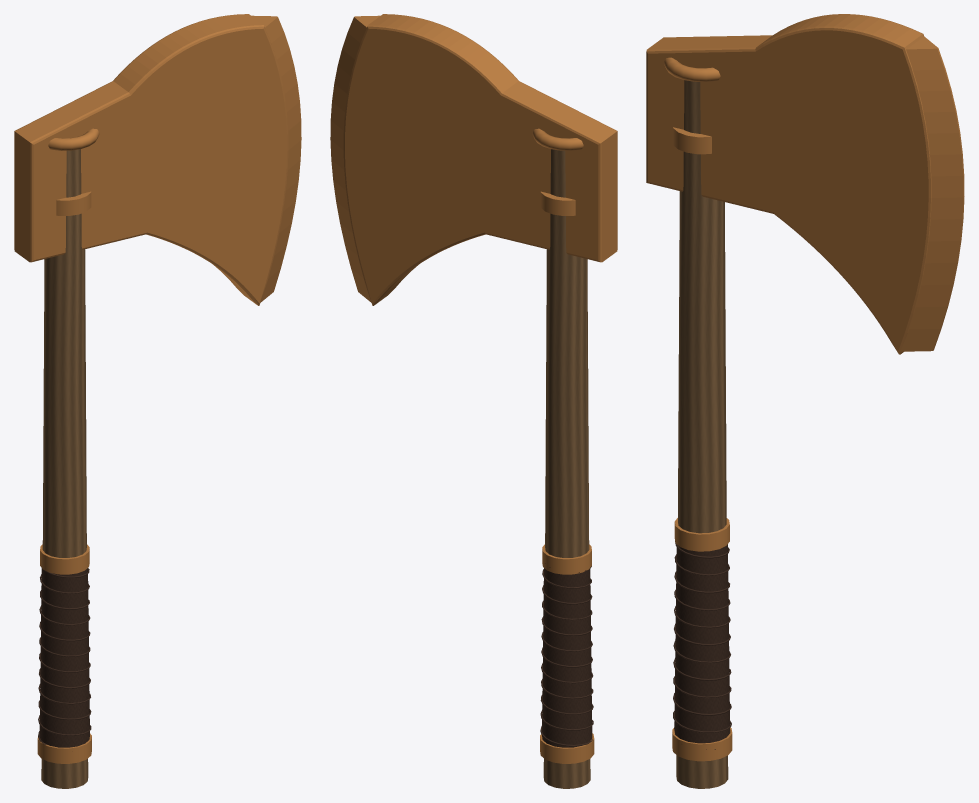
Rendered from corealm_axe_1.glb.
The picture shows the model from 3 angles, left to right: view 1: azimuth 30°, elevation 25°; view 2: azimuth 150°, elevation 25°; view 3: azimuth 330°, elevation 25°; orthographic projection. The views are drawn at different scales.
Visible parts, largest first — view 1: corealm-weapon-metal, corealm-weapon-wood, corealm-weapon-leather, corealm-weapon-blade; view 2: corealm-weapon-metal, corealm-weapon-wood, corealm-weapon-leather, corealm-weapon-blade; view 3: corealm-weapon-metal, corealm-weapon-wood, corealm-weapon-leather, corealm-weapon-blade.
Part boxes in pixels (box(x1,y1,x2,y2)): corealm-weapon-metal: box(14, 14, 288, 763); corealm-weapon-wood: box(41, 149, 88, 788); corealm-weapon-leather: box(38, 567, 91, 747); corealm-weapon-blade: box(251, 15, 301, 302); corealm-weapon-metal: box(343, 14, 617, 763); corealm-weapon-wood: box(543, 149, 590, 788); corealm-weapon-leather: box(540, 563, 593, 747); corealm-weapon-blade: box(330, 15, 380, 302); corealm-weapon-metal: box(646, 14, 931, 761); corealm-weapon-wood: box(676, 80, 728, 788); corealm-weapon-leather: box(673, 541, 731, 749); corealm-weapon-blade: box(900, 36, 964, 351).
Size of the model in its own units: 0.3407 by 0.838 by 0.074.
4 materials, 2 textured.
